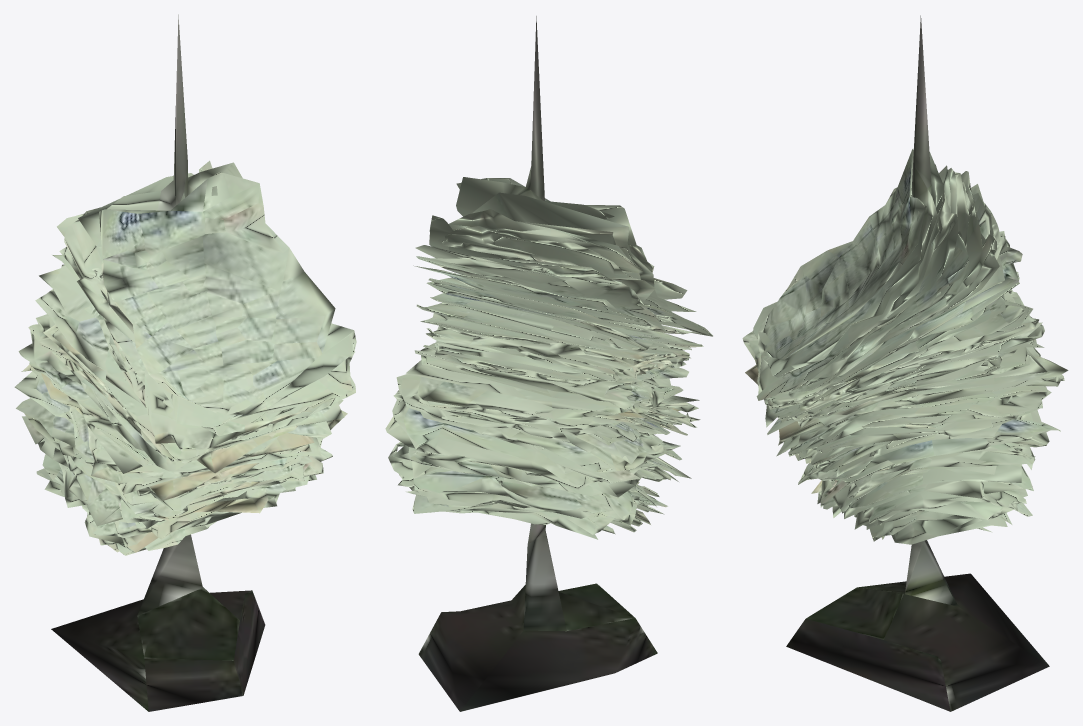
Rendered from spike.glb.
3 views of the same model, side by side, from view 1: azimuth 30°, elevation 25°; view 2: azimuth 150°, elevation 25°; view 3: azimuth 270°, elevation 25° (orthographic).
Size of the model in its own units: 0.7631 by 1.9 by 0.8671.
Materials: 1 (1 with a texture image).
